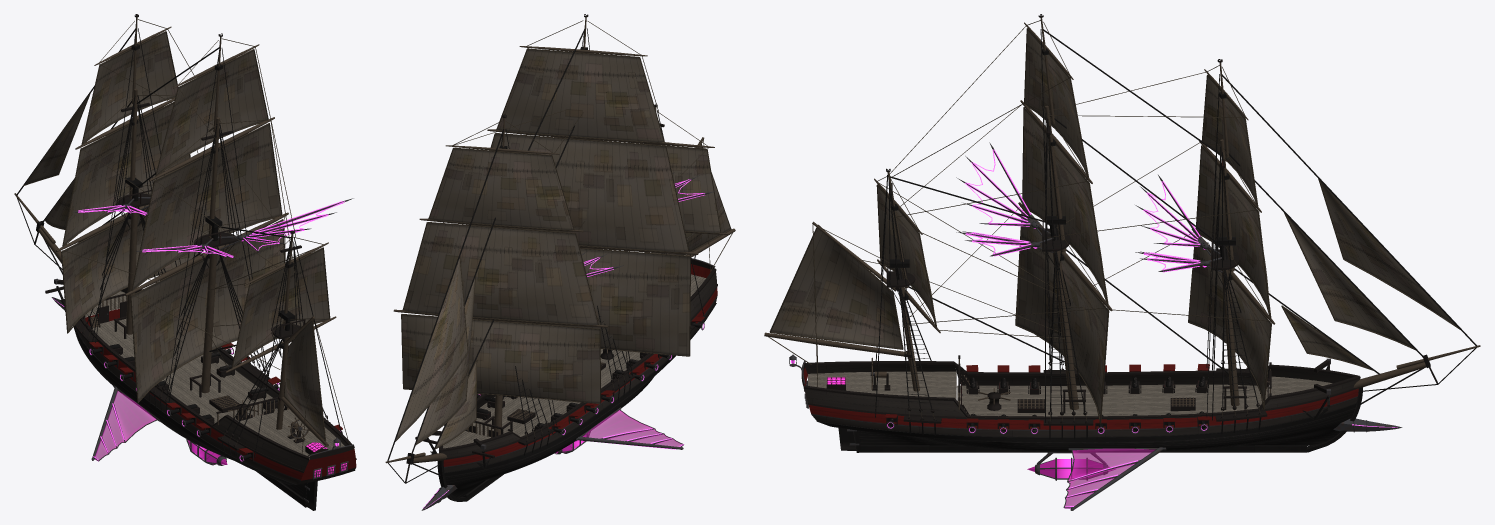
The model's file is sky_hunter.glb.
3 renders of one model, left to right at view 1: azimuth 30°, elevation 25°; view 2: azimuth 150°, elevation 25°; view 3: azimuth 270°, elevation 25°, orthographic. The views are drawn at different scales.
Visible parts, largest first — view 1: Sails, Rig, Hull, WingSails; view 2: Sails, Hull, Rig, WingSails; view 3: Sails, Hull, Rig, WingSails.
Boxes of the visible parts, bbox=[...] form: Sails: bbox=[23, 31, 330, 441]; Rig: bbox=[14, 14, 349, 457]; Hull: bbox=[45, 278, 356, 510]; WingSails: bbox=[73, 197, 353, 461]; Sails: bbox=[395, 48, 731, 449]; Hull: bbox=[415, 255, 717, 510]; Rig: bbox=[385, 14, 735, 483]; WingSails: bbox=[443, 172, 715, 449]; Sails: bbox=[769, 28, 1461, 423]; Hull: bbox=[789, 354, 1402, 480]; Rig: bbox=[764, 14, 1480, 423]; WingSails: bbox=[956, 142, 1222, 510].
Size of what is drawn, in the model's own units: 18.24 by 33.16 by 46.26.
6 materials, 6 textured.
